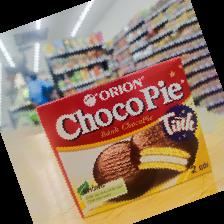Chocopie: (36, 57, 214, 221)
